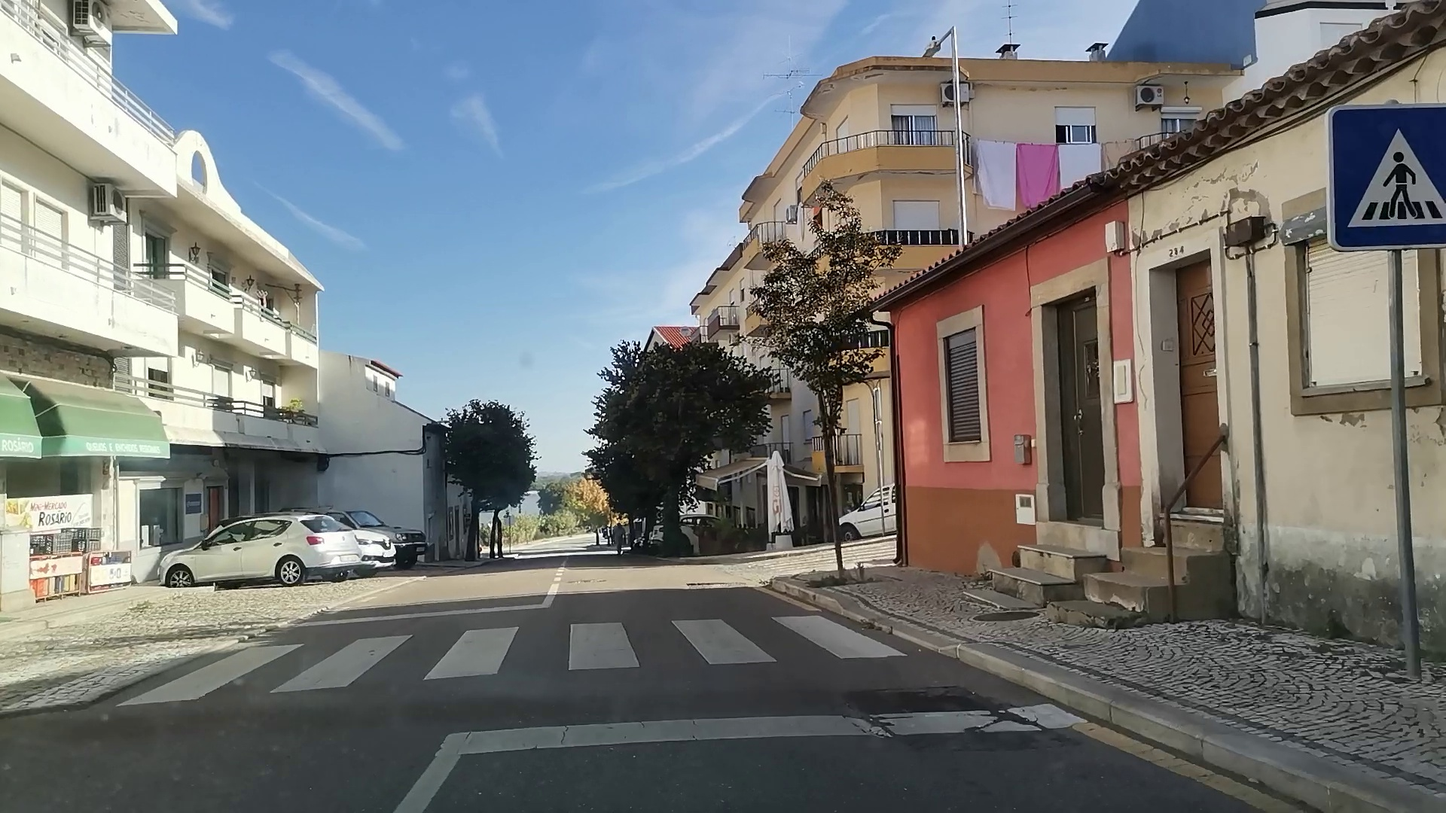Stairs: (115, 611, 904, 703)
